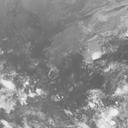cyclone: (43, 42, 106, 110)
